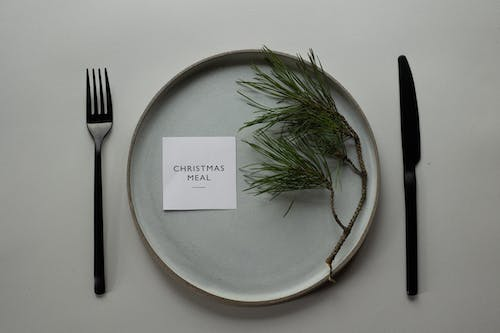knife: (396, 52, 423, 297)
